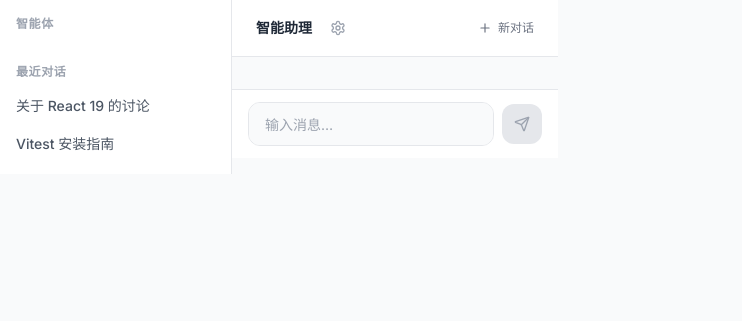
Test: Chat page integration tests › loads sessions and allows switching between them
Check: the text "Vitest 安装指南" is shown, box left=16, top=135, right=114, bottom=152
What coordinates should you click on to do the following:
click the text "关于 React 19 的讨论"
I would click on:
 (83, 106)
Its box is left=16, top=97, right=150, bottom=114.
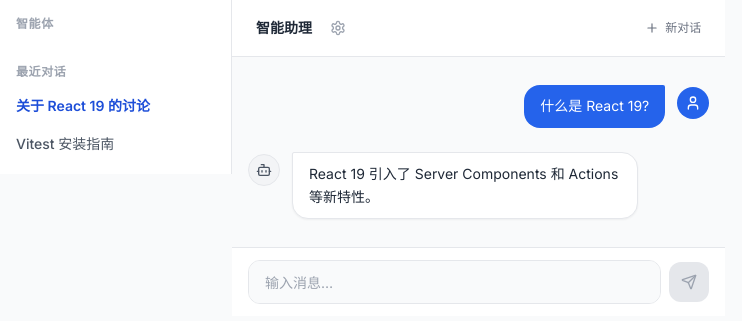
Check: the text "什么是 React 19?" is shown, box left=540, top=95, right=649, bottom=118
Check: the text "React 19 引入了 Server Components 和 Actions 等新特性。" is shown, box left=309, top=163, right=621, bottom=208
